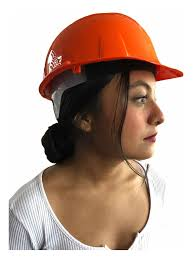Casco de seguridad: (39, 13, 182, 99)
